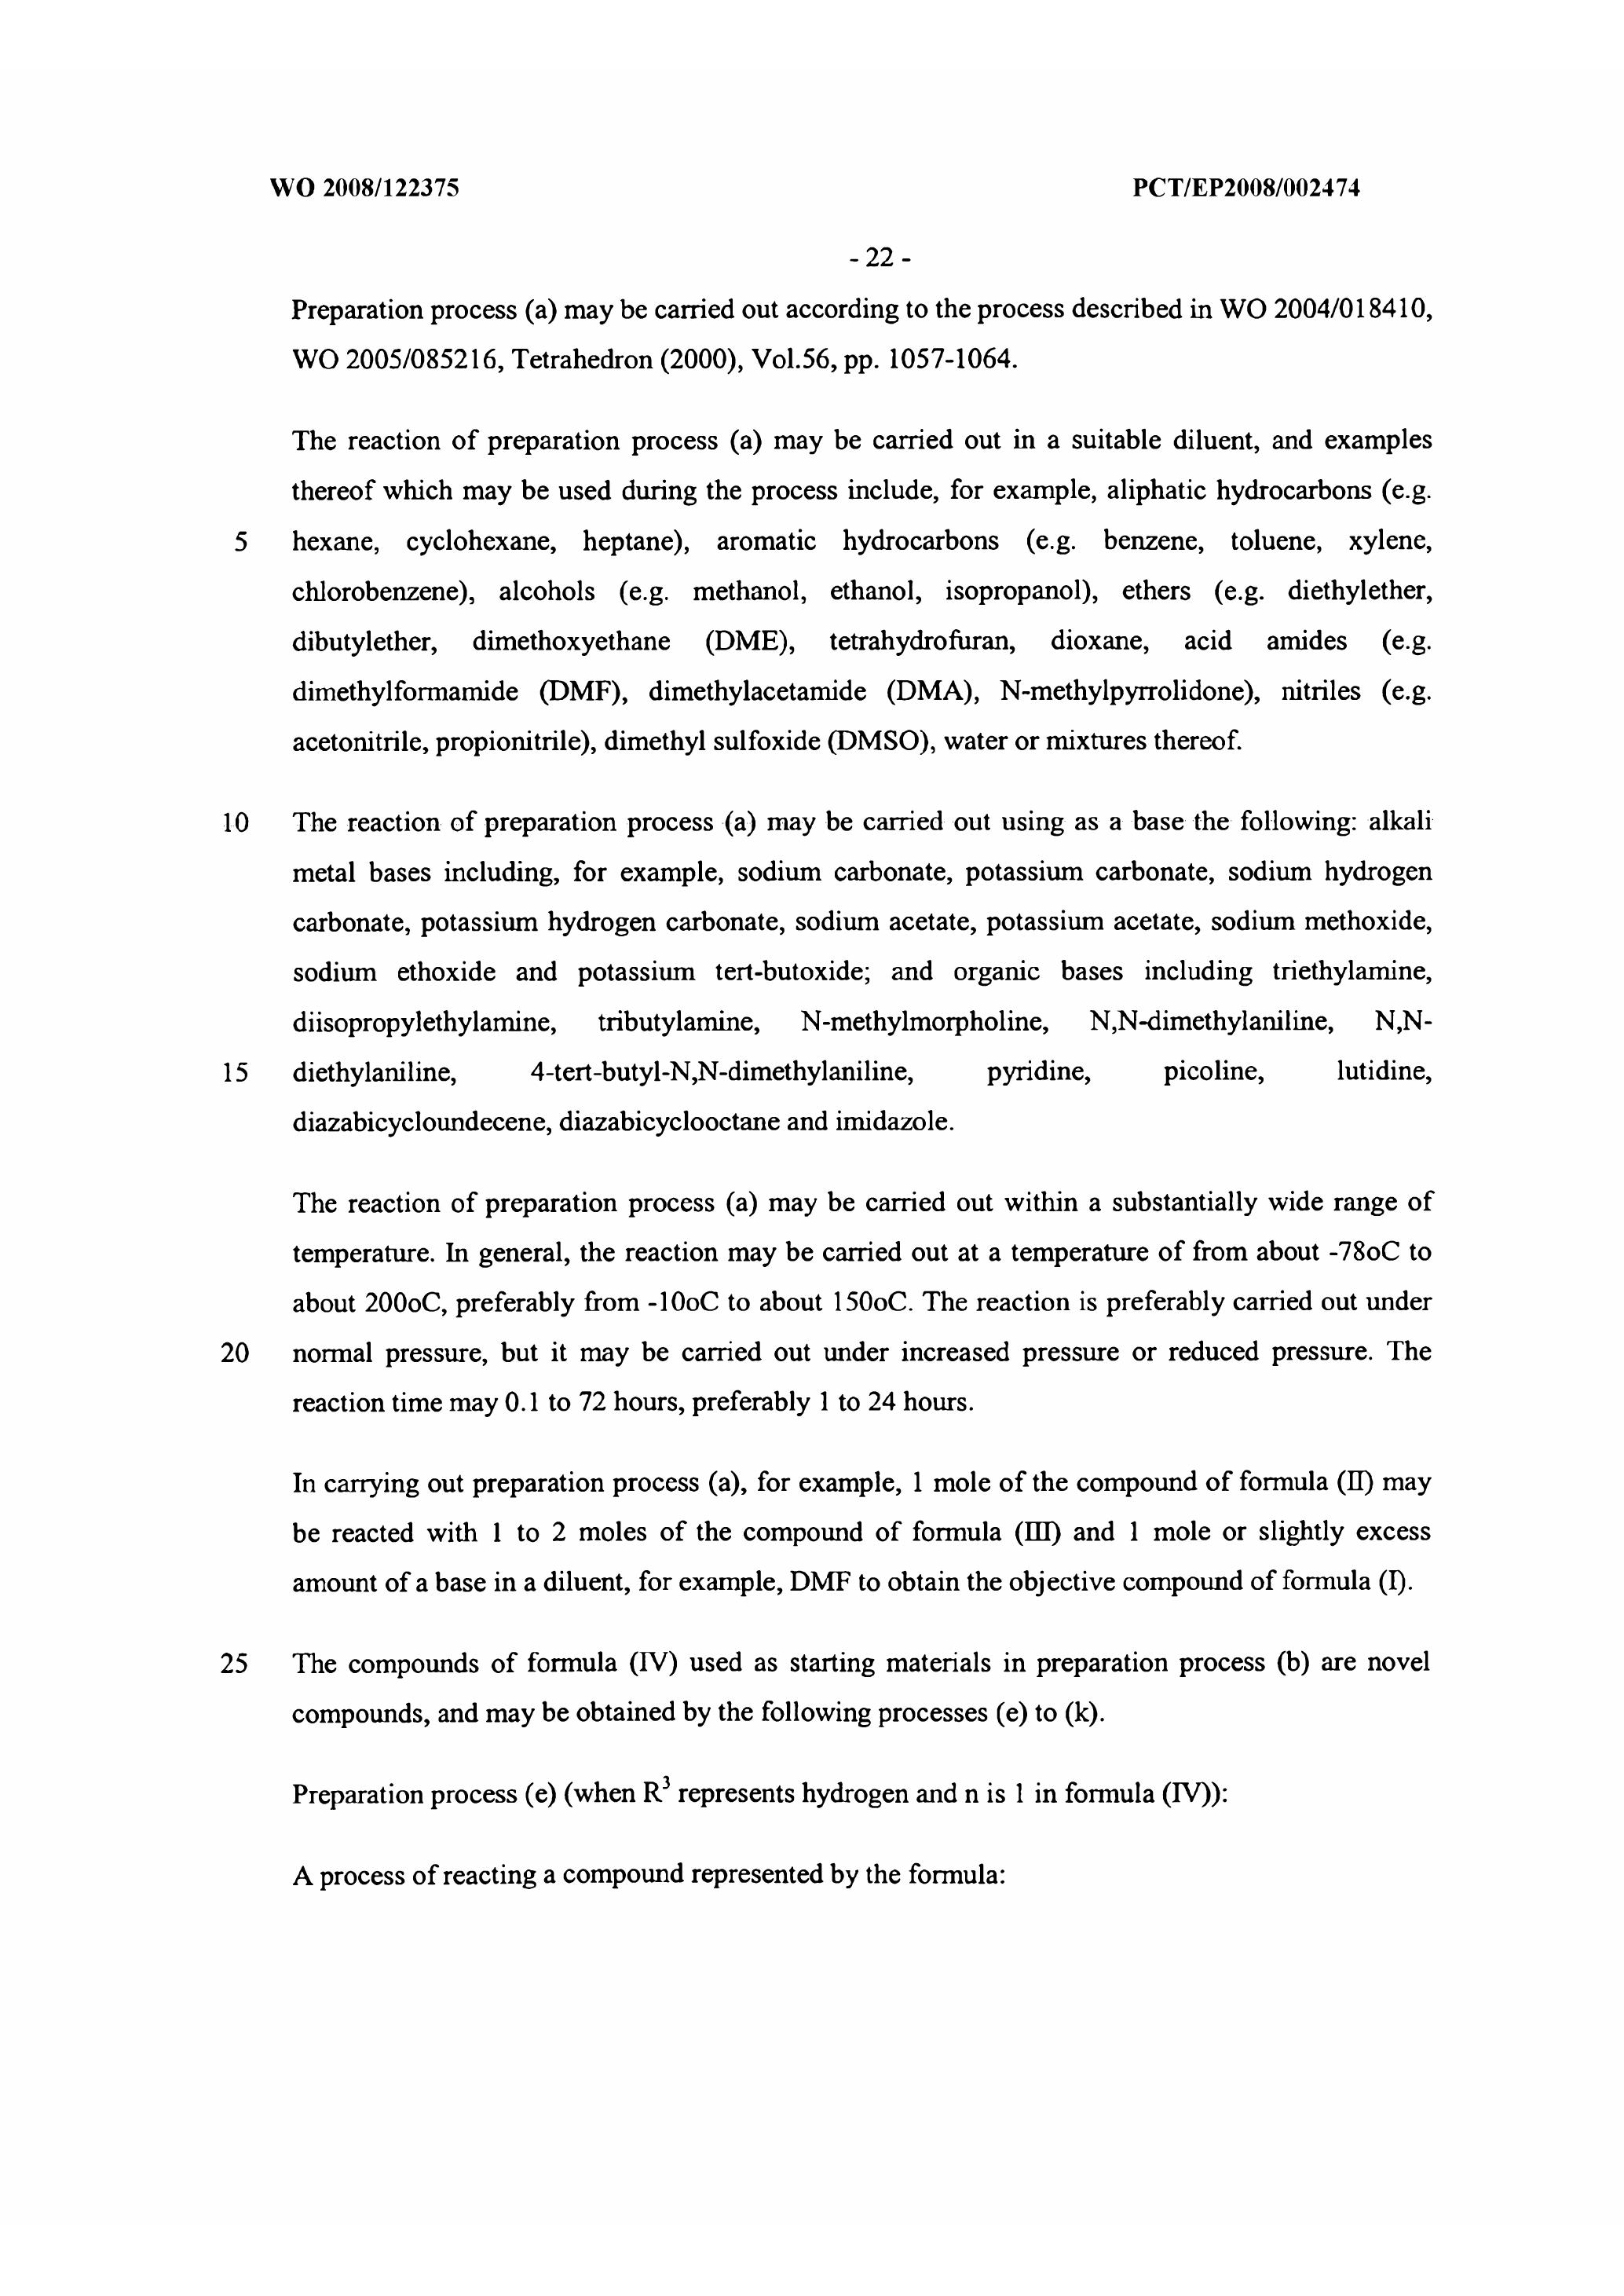reactions: (264, 418, 1429, 763)
